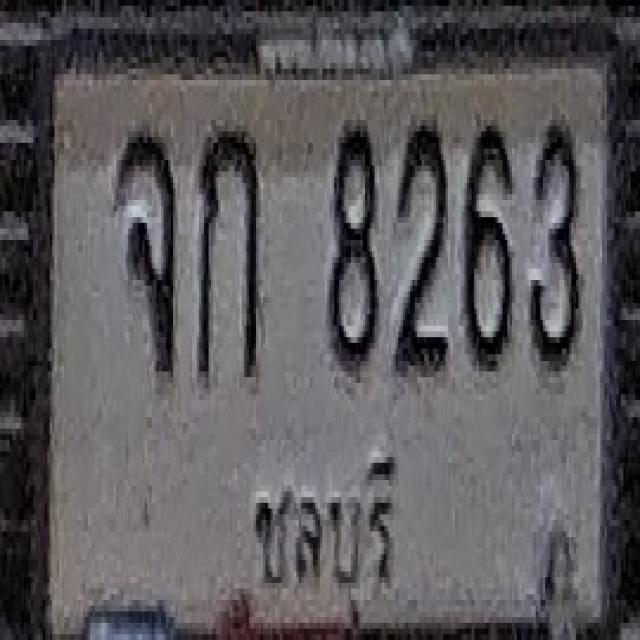2: (394, 117, 446, 374)
3: (530, 117, 580, 369)
6: (464, 117, 514, 369)
8: (328, 117, 378, 369)
A01: (197, 126, 258, 383)
A08: (116, 126, 176, 377)
CBI: (246, 420, 403, 634)
